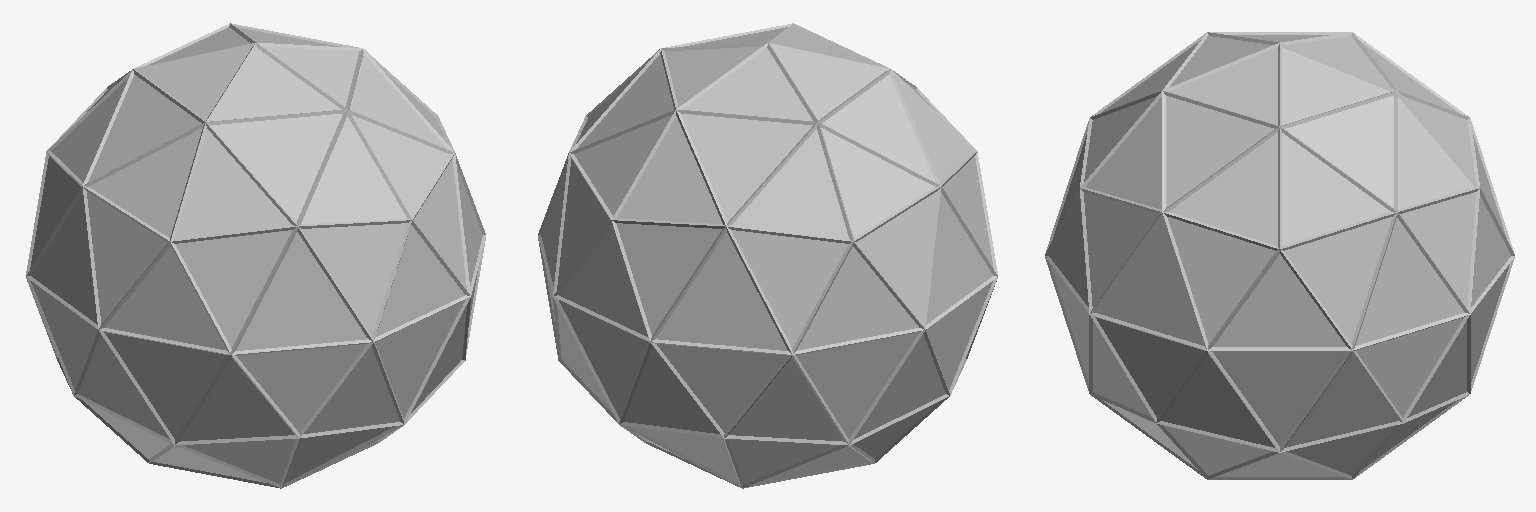
File: portal.obj
3 views of the same model, side by side, from view 1: azimuth 30°, elevation 25°; view 2: azimuth 150°, elevation 25°; view 3: azimuth 270°, elevation 25° (orthographic).
Parts seen in each view (by area): view 1: Icosphere.001, Icosphere.002_Icosphere.003; view 2: Icosphere.001, Icosphere.002_Icosphere.003; view 3: Icosphere.001, Icosphere.002_Icosphere.003.
Part boxes in pixels (x1,y1,x2,y2): Icosphere.001: (30, 27, 482, 483); Icosphere.002_Icosphere.003: (26, 23, 485, 488); Icosphere.001: (541, 27, 993, 483); Icosphere.002_Icosphere.003: (538, 23, 997, 488); Icosphere.001: (1049, 35, 1510, 476); Icosphere.002_Icosphere.003: (1045, 32, 1514, 479).
Bounding box in the file's own units: 6.23 × 6.55 × 6.55.